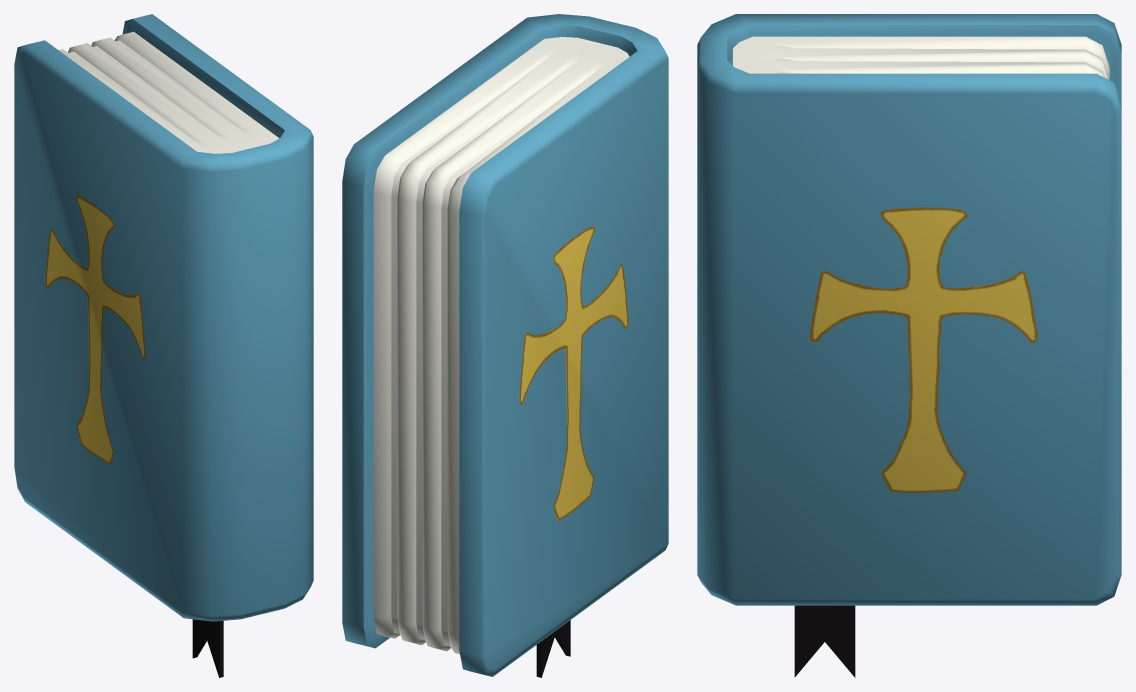
Rendered from BookA.fbx.
3 views of the same model, side by side, from view 1: azimuth 30°, elevation 25°; view 2: azimuth 150°, elevation 25°; view 3: azimuth 270°, elevation 25° (orthographic). The views are drawn at different scales.
Parts seen in each view (by area): view 1: Book A; view 2: Book A; view 3: Book A.
Part boxes in pixels (x1,y1,x2,y2): Book A: (14, 14, 313, 677); Book A: (342, 14, 668, 677); Book A: (697, 14, 1121, 677).
Size of the model in its own units: 0.2134 by 0.8547 by 0.524.
